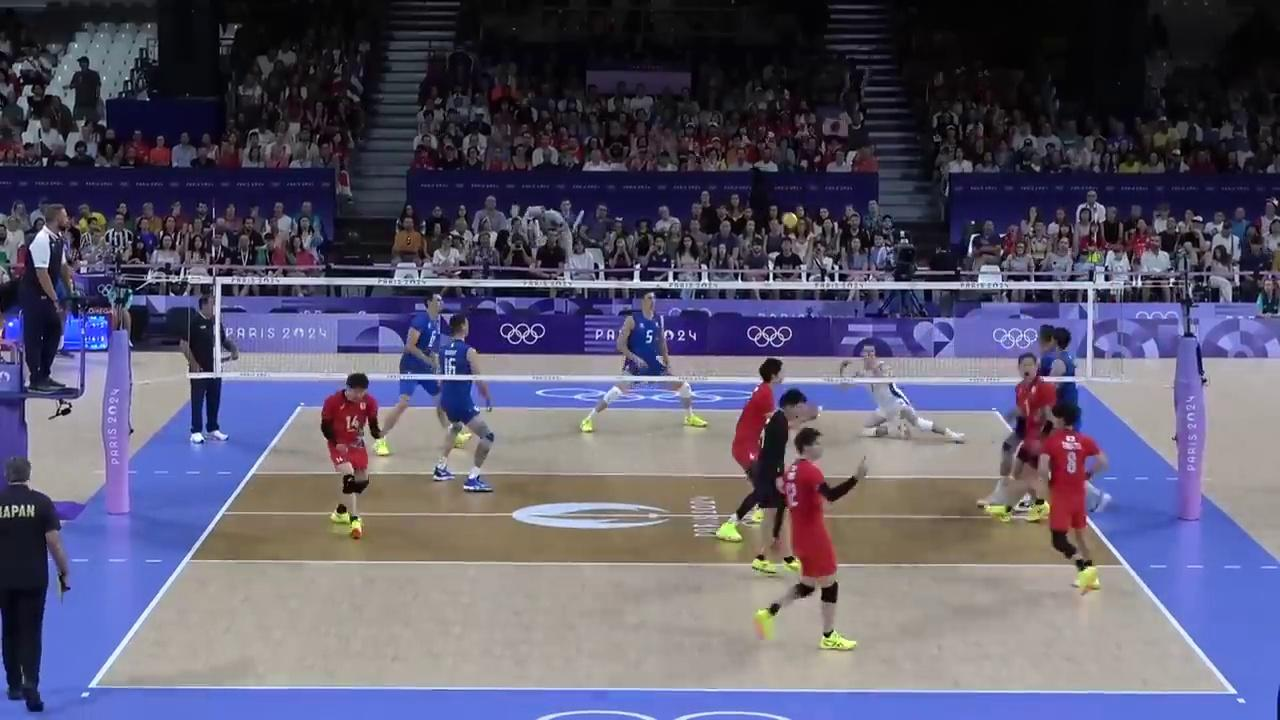ball: (784, 212, 797, 230)
